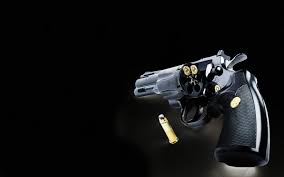gun: (134, 50, 271, 167)
